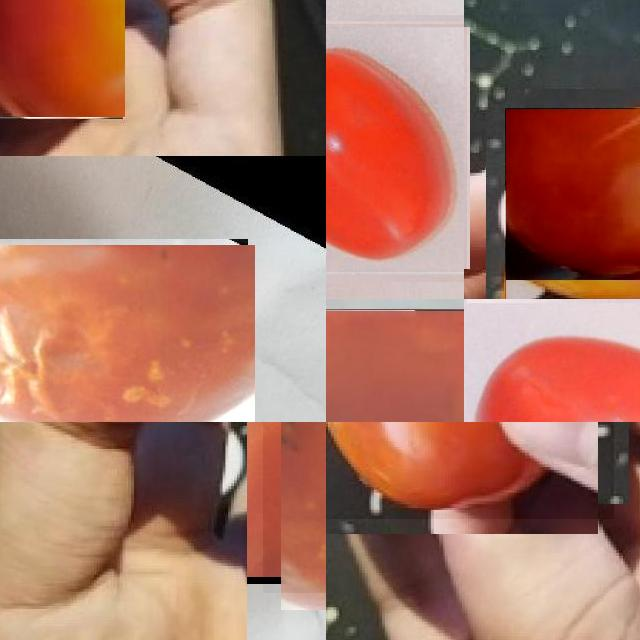1: (326, 422, 613, 519)
Fresh Tomato: (326, 24, 467, 272), (464, 299, 640, 422), (0, 0, 125, 117)
Rotten Tomato: (0, 245, 255, 422), (505, 108, 640, 299)
